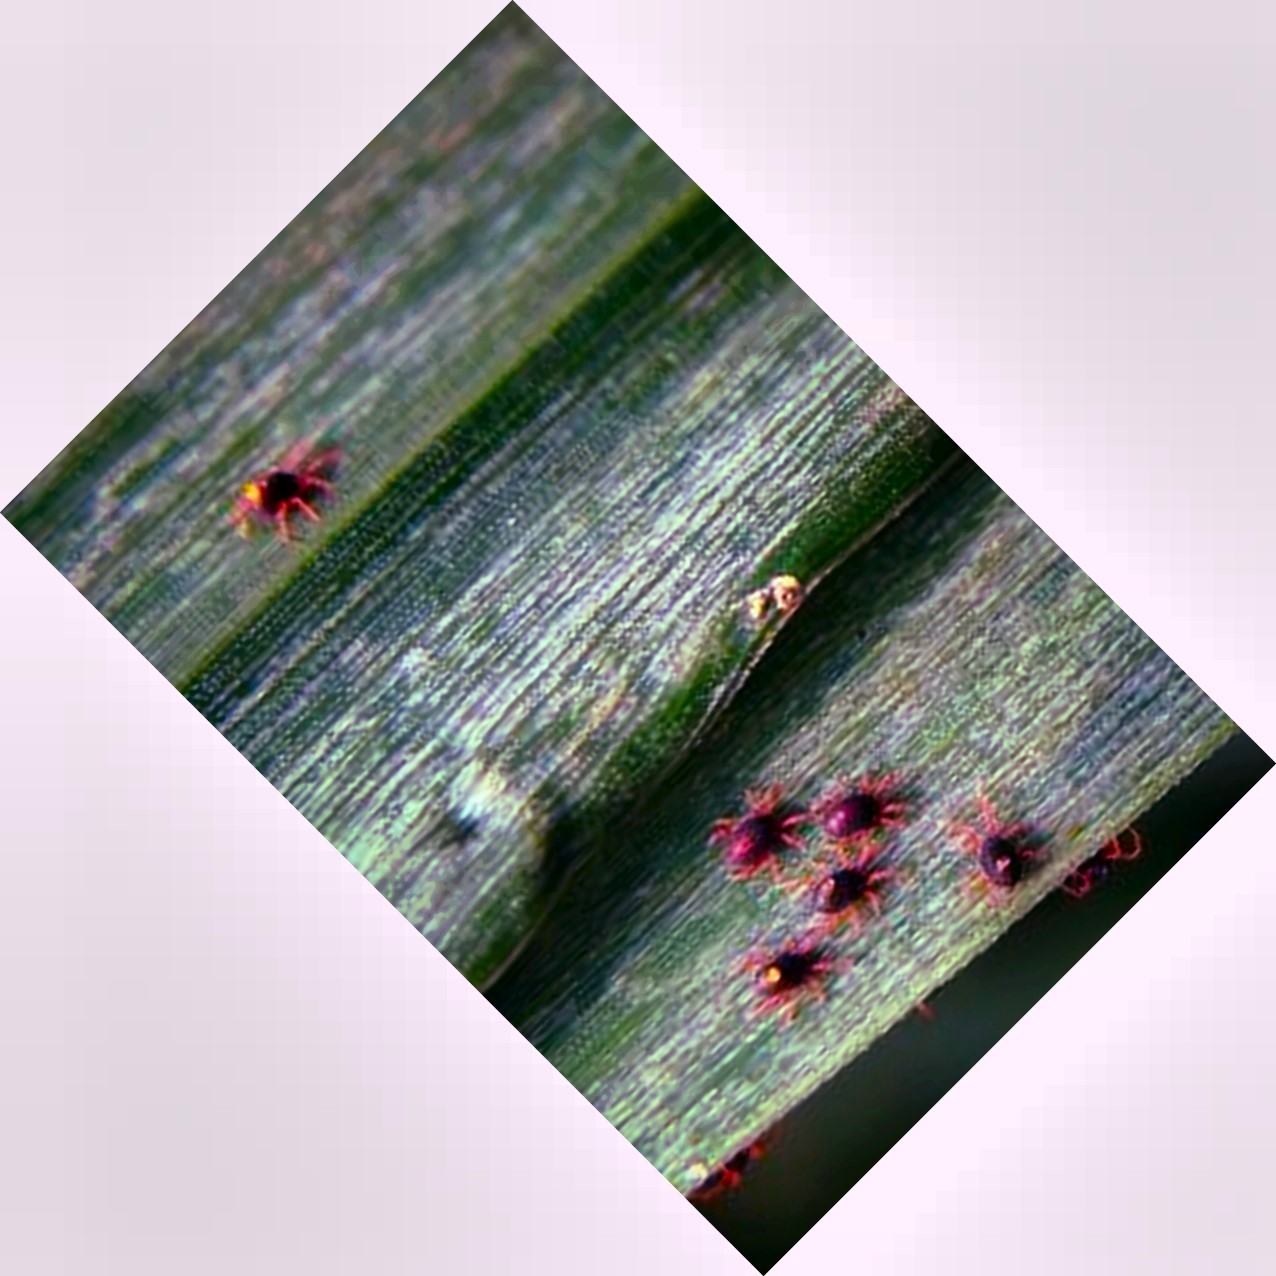Wheat Red Spider: (700, 753, 915, 1014)
